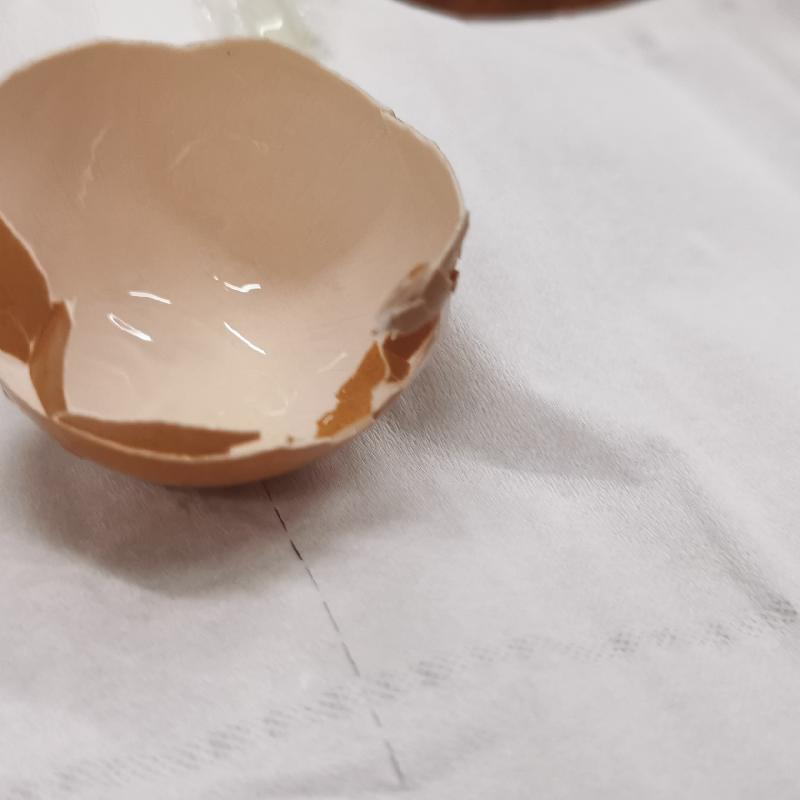eggshell: (1, 44, 467, 489)
